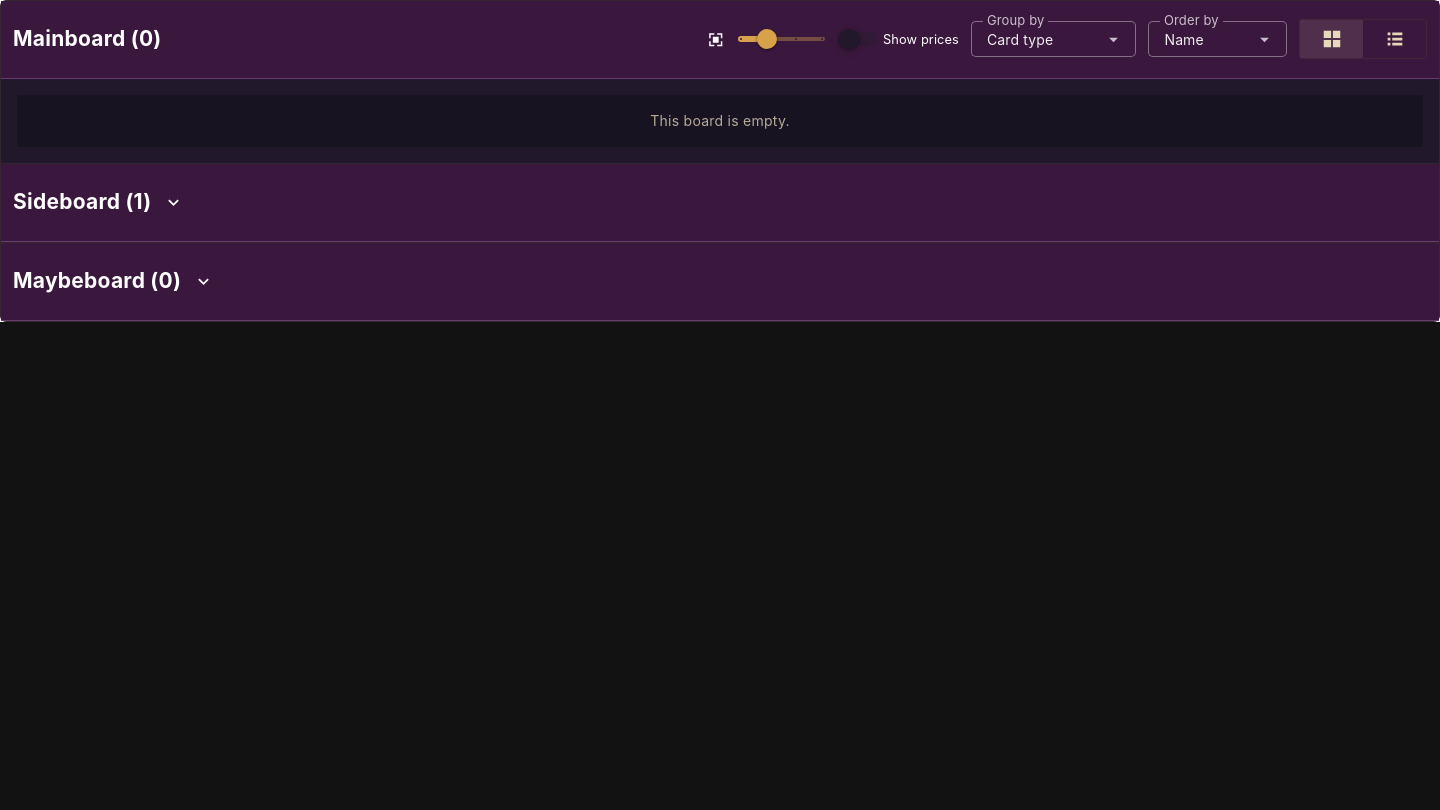
DeckPanel › keeps non-mainboards collapsed until expanded
Click the button with aria-label "Expand Sideboard": click(82, 202) [1,164,1439,242]
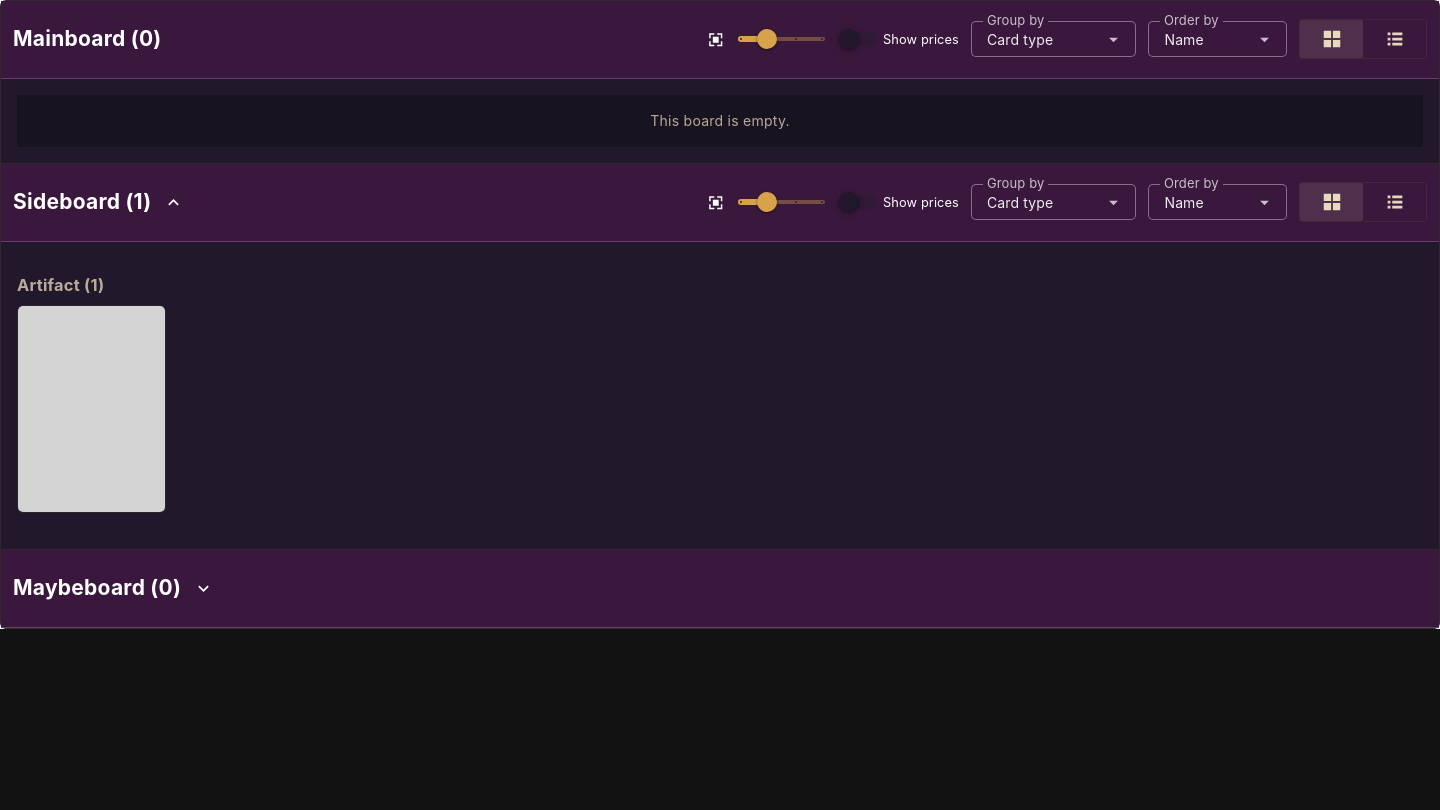
Expected: the number of "VSelect" components is 4, [971,21,1136,57]; [1148,21,1287,57]; [971,184,1136,220]; [1148,184,1287,220]
